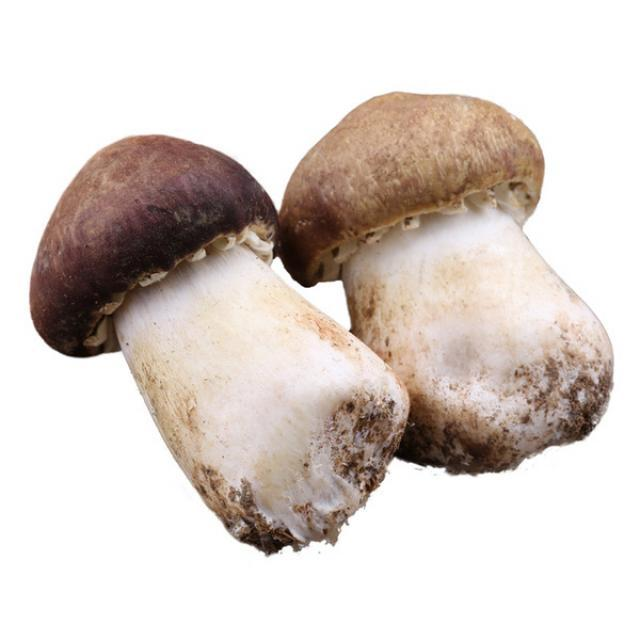Agaricus blazei Murill: (33, 134, 411, 557), (281, 91, 615, 473)
